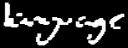language: (0, 0, 128, 48)
